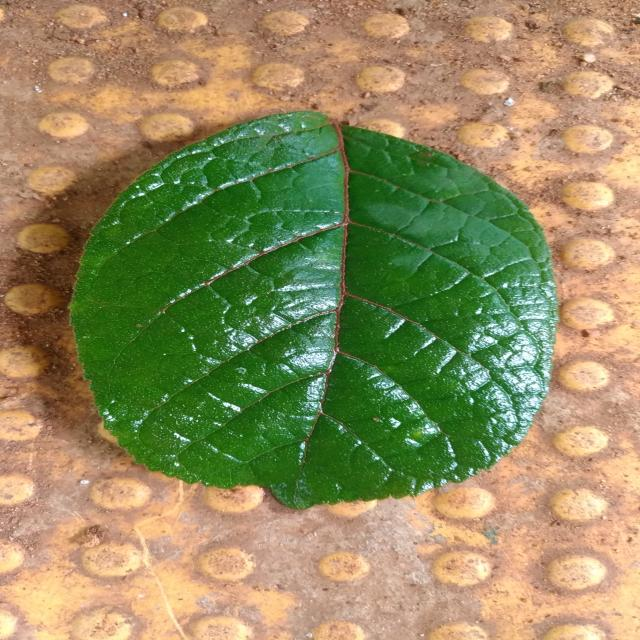padri: (71, 111, 556, 508)
